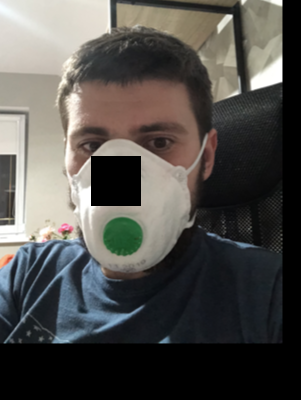with_mask: (62, 117, 203, 274)
